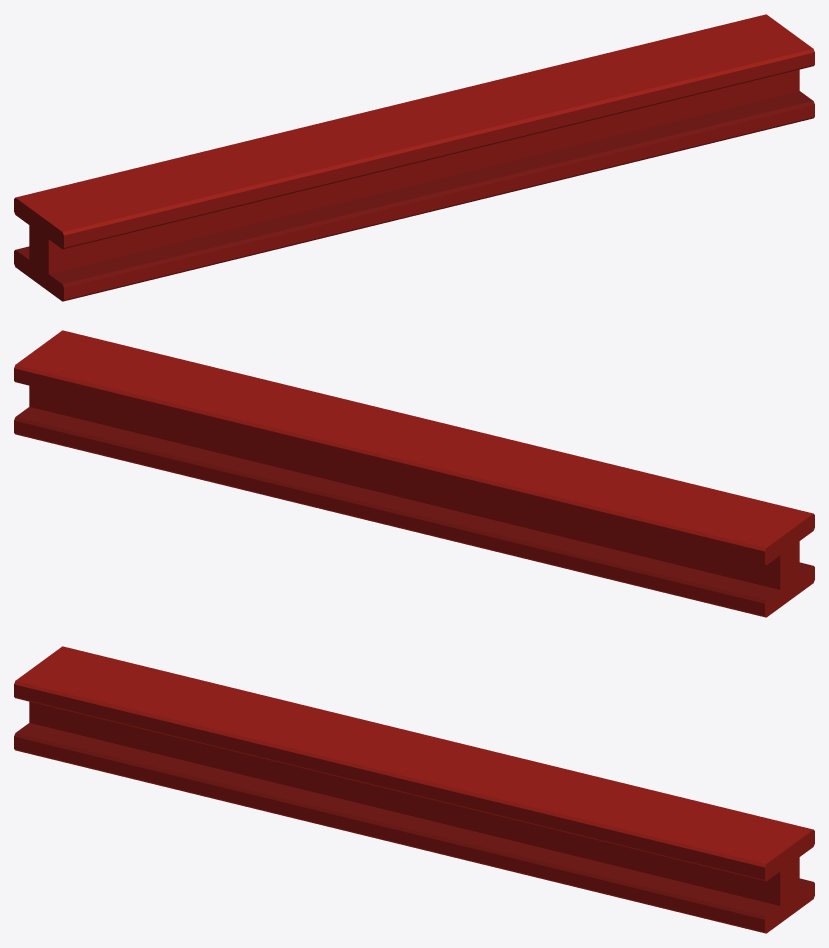
The model's file is steel-structure-2.fbx.
3 renders of one model, top to bottom at view 1: azimuth 30°, elevation 25°; view 2: azimuth 150°, elevation 25°; view 3: azimuth 330°, elevation 25°, orthographic.
Visible parts, largest first — view 1: Plane.001; view 2: Plane.001; view 3: Plane.001.
Part boxes in pixels (<box>): Plane.001: <box>14,14,814,301</box>; Plane.001: <box>14,330,814,617</box>; Plane.001: <box>14,646,814,933</box>.
Size of the model in its own units: 2258 by 200 by 260.
